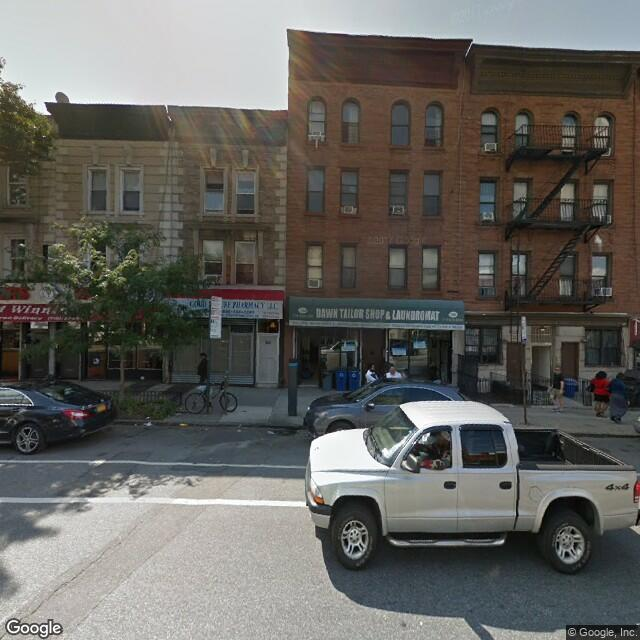litter: (275, 424, 294, 436), (175, 421, 189, 426), (266, 429, 273, 439), (143, 421, 153, 425), (236, 427, 240, 431), (203, 427, 208, 430), (130, 420, 141, 421)
